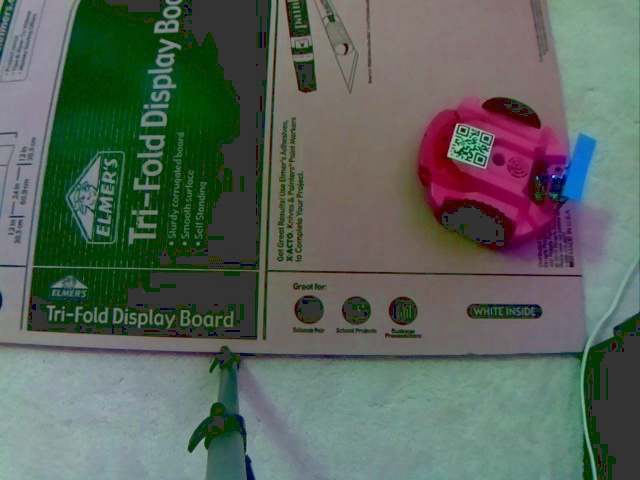board: (536, 129, 596, 205)
chassis: (416, 90, 598, 253)
